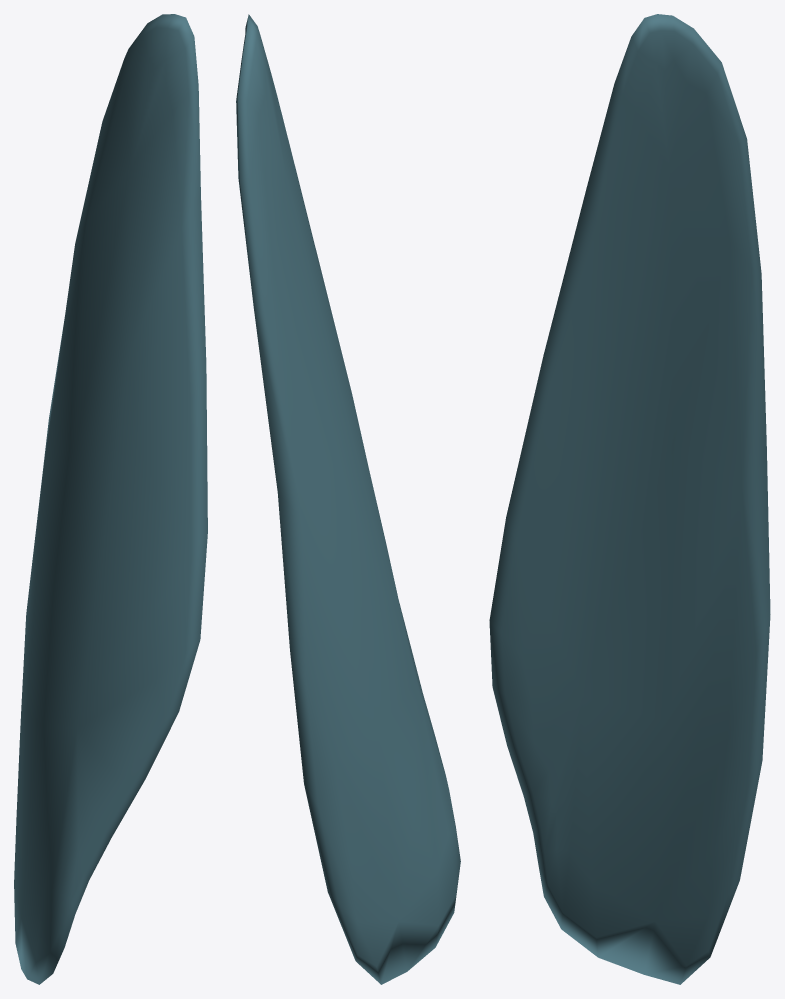
The model's file is Pronator_teres-Radial_insertion.r_Generated_Mesh_From_X3D.632.glb.
The picture shows the model from 3 angles, left to right: view 1: azimuth 30°, elevation 25°; view 2: azimuth 150°, elevation 25°; view 3: azimuth 270°, elevation 25°; orthographic projection. The views are drawn at different scales.
Visible parts, largest first — view 1: Pronator_teres-Radial_insertion.r_Generated_Mesh_From_X3D.63; view 2: Pronator_teres-Radial_insertion.r_Generated_Mesh_From_X3D.63; view 3: Pronator_teres-Radial_insertion.r_Generated_Mesh_From_X3D.63.
Boxes of the visible parts, left/top/right/bottom form: Pronator_teres-Radial_insertion.r_Generated_Mesh_From_X3D.63: left=14, top=14, right=207, bottom=984; Pronator_teres-Radial_insertion.r_Generated_Mesh_From_X3D.63: left=236, top=14, right=460, bottom=984; Pronator_teres-Radial_insertion.r_Generated_Mesh_From_X3D.63: left=489, top=14, right=770, bottom=984.
Bounding box in the file's own units: 0.00526 × 0.0266 × 0.00644.
